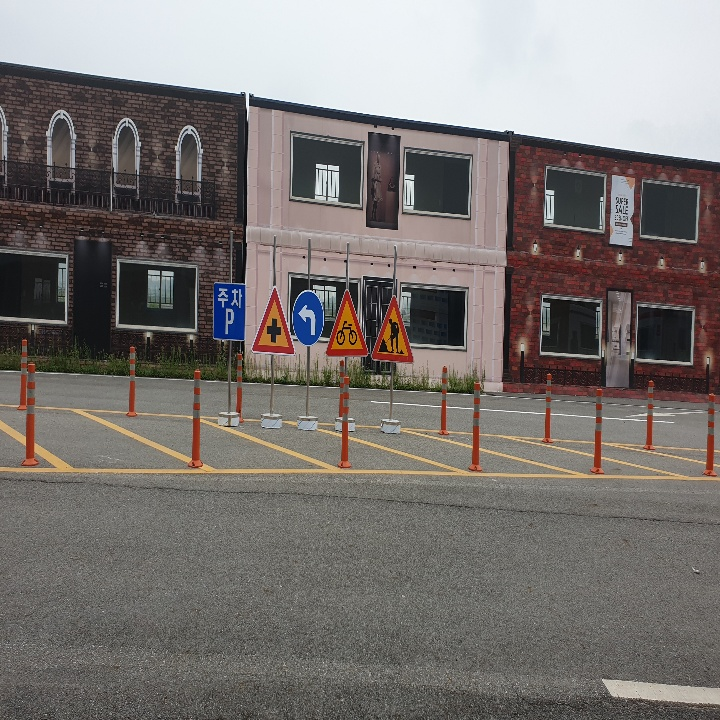bicycle: (324, 290, 369, 355)
const: (379, 313, 407, 357)
inter: (262, 317, 282, 346)
left: (293, 302, 319, 337)
parking: (219, 303, 238, 336)
